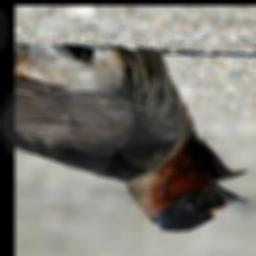Swallow: (16, 42, 253, 234)
